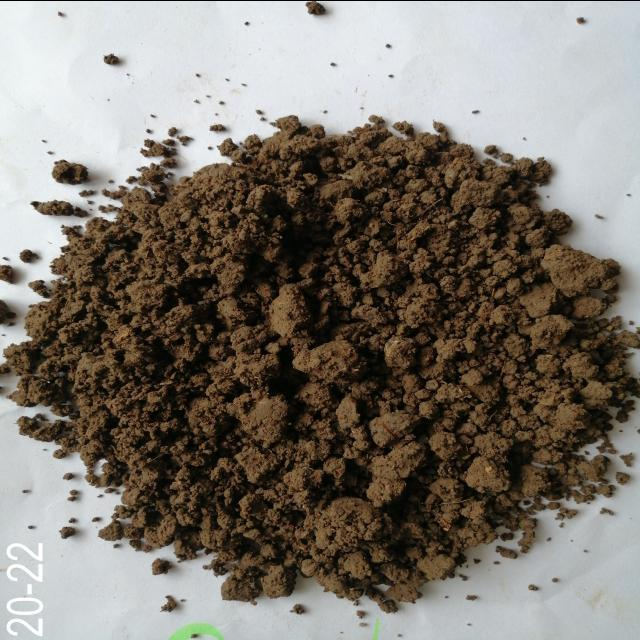soil: (122, 200, 544, 533)
